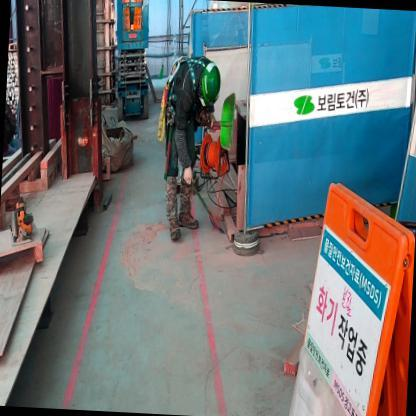Helmet: (198, 58, 223, 106)
safety-shoe: (175, 205, 204, 238)
